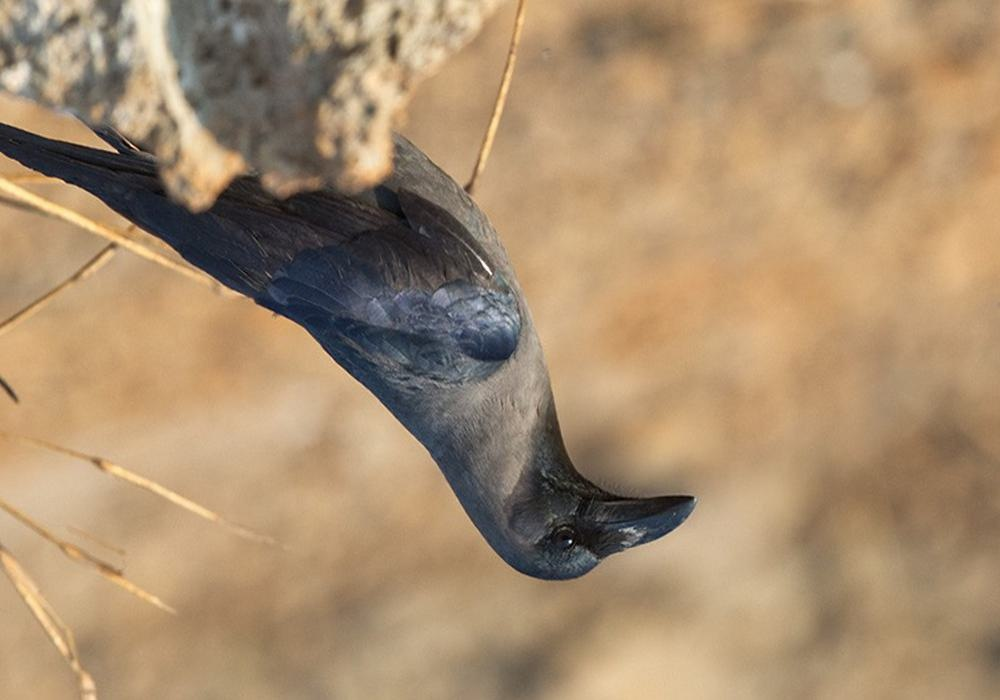crow: (1, 60, 717, 601)
